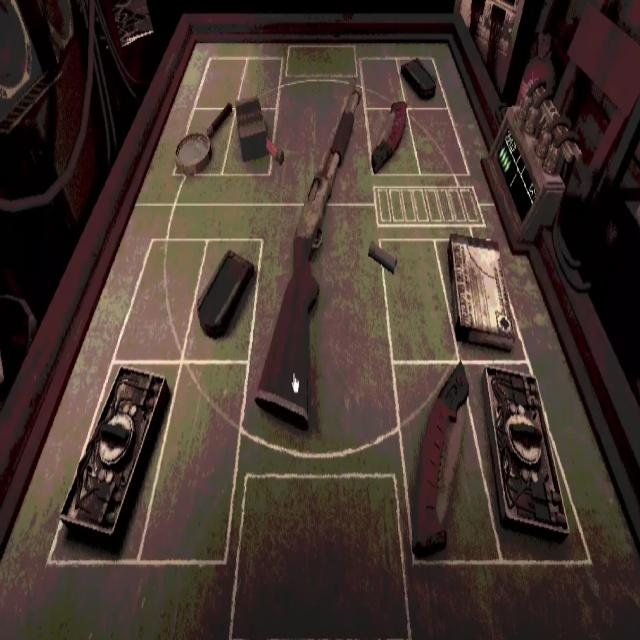changepolarity: (60, 367, 169, 550), (481, 365, 569, 542)
cigar: (236, 99, 269, 161)
doubledamage: (410, 362, 468, 557), (370, 101, 407, 173)
expired-medicine: (447, 234, 515, 350)
lens: (175, 103, 232, 176)
phone: (198, 250, 254, 338), (401, 59, 438, 99)
